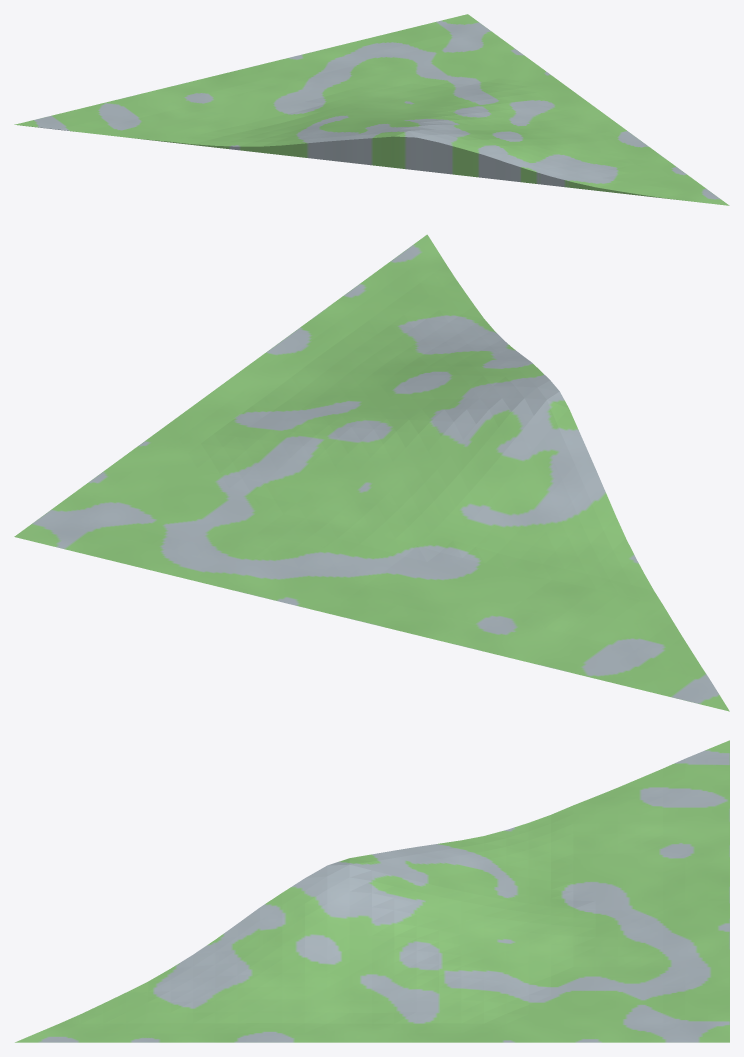
The model's file is Grass_RockyGround_02_SE.obj.
3 views of the same model, one above another, from view 1: azimuth 30°, elevation 25°; view 2: azimuth 150°, elevation 25°; view 3: azimuth 270°, elevation 25° (orthographic). The views are drawn at different scales.
Size of the model in its own units: 10 by 0.7038 by 10.
Materials: 1 (1 with a texture image).
